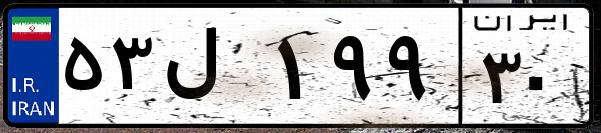0: (525, 38, 570, 115)
1: (270, 28, 330, 110)
3: (475, 38, 525, 113), (110, 28, 158, 98)
5: (57, 26, 110, 100)
9: (385, 28, 445, 110), (330, 28, 385, 110)
ل: (158, 20, 270, 120)
